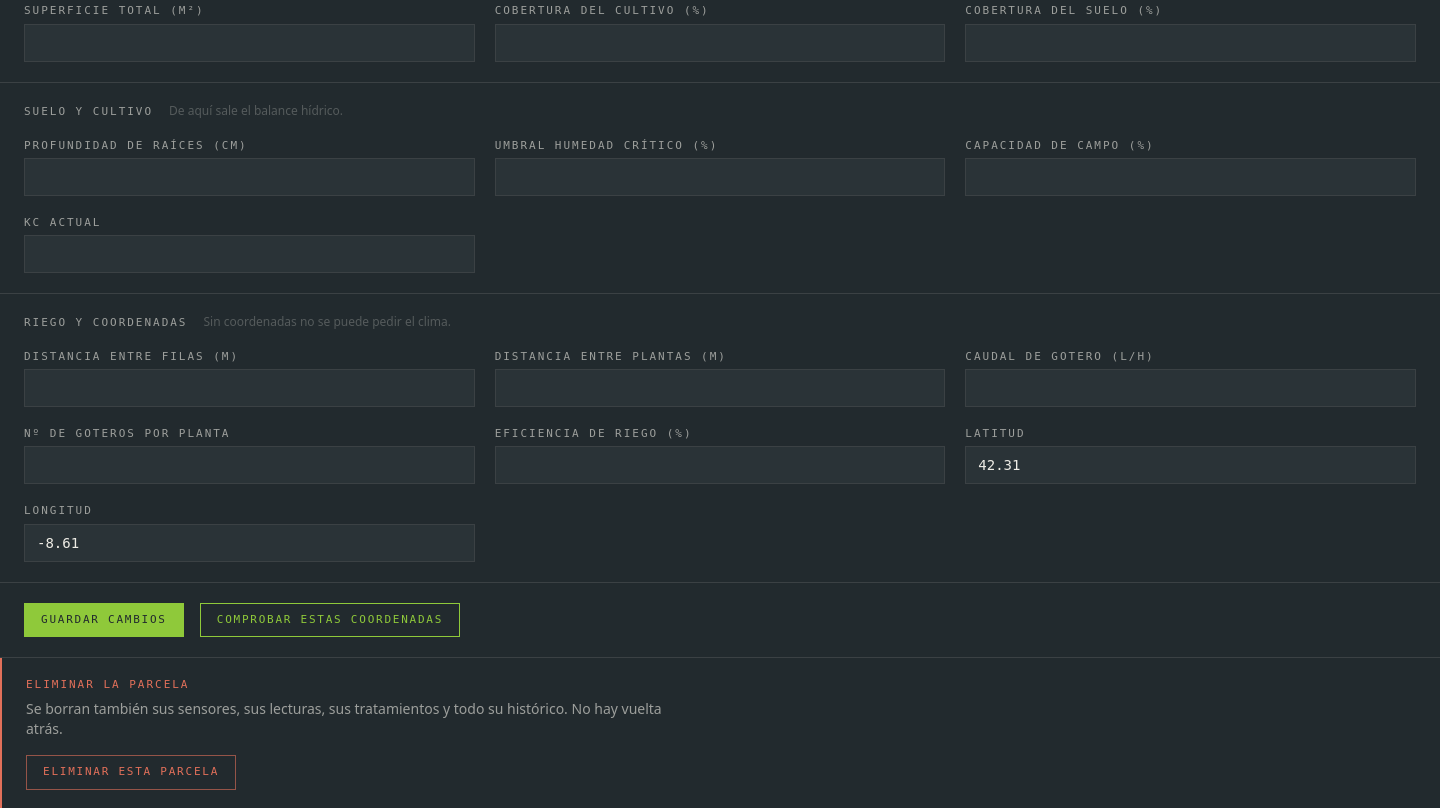
un error al guardar se traduce con MensajeError
(page scrolled)
Click the button "Guardar cambios": (104, 620) x1=24 y1=602 x2=184 y2=637
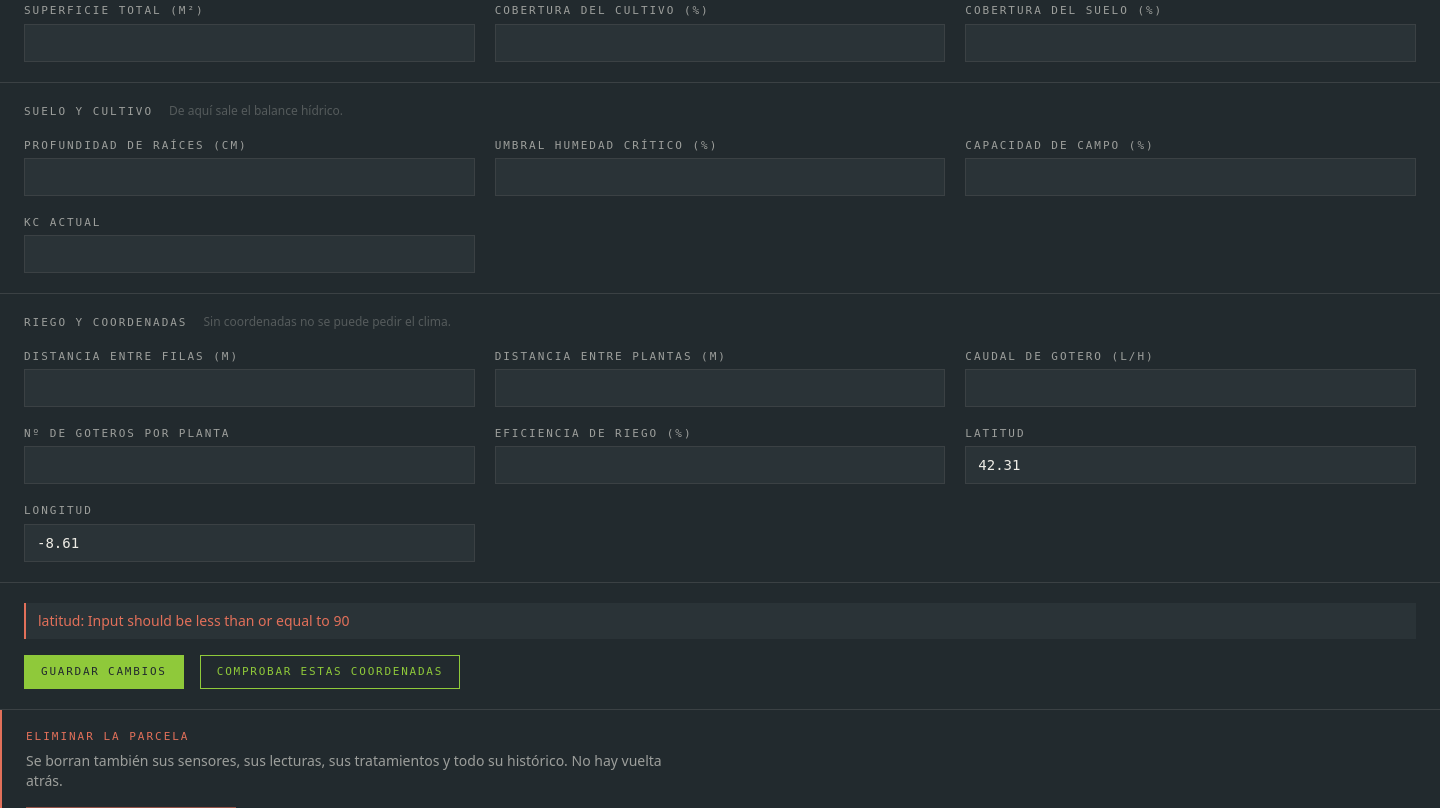
Expected: the text "latitud: Input should be less than or equal to 90" is shown, x1=24 y1=602 x2=1416 y2=638
